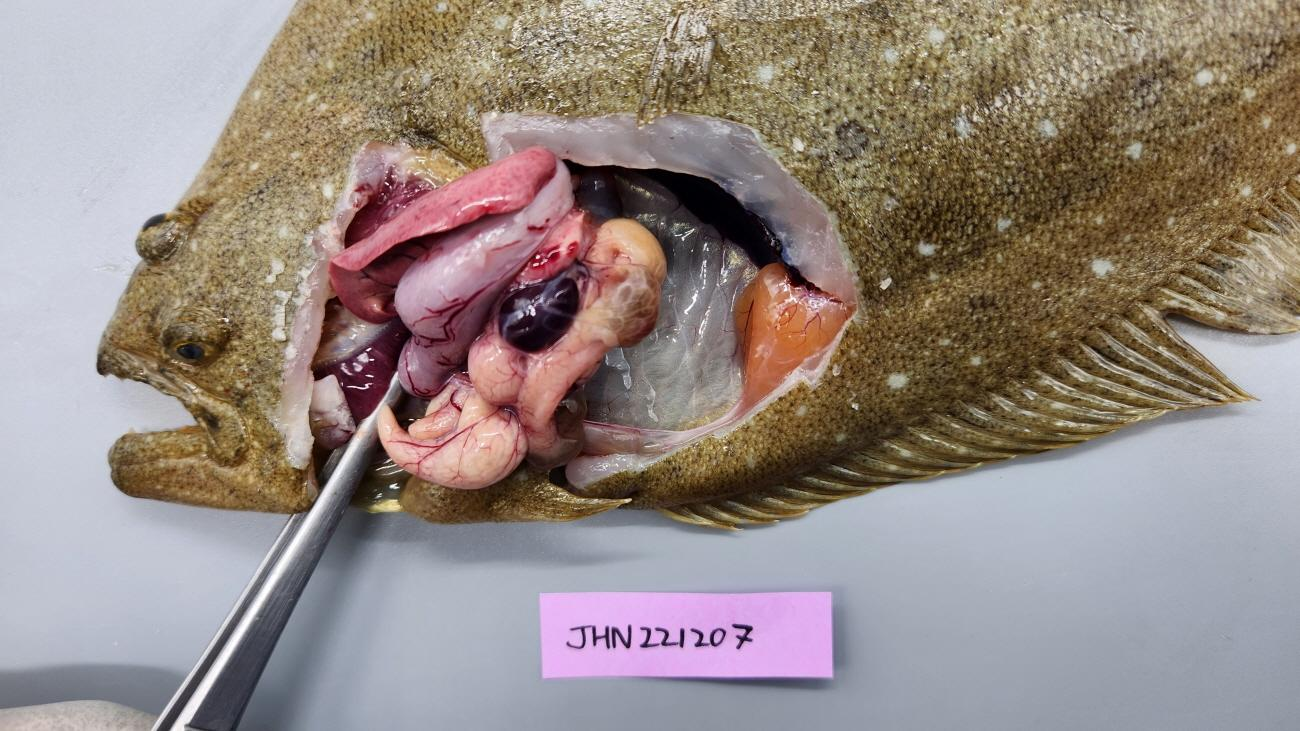POINN: (468, 201, 667, 461)
POSPN: (497, 278, 578, 353)
